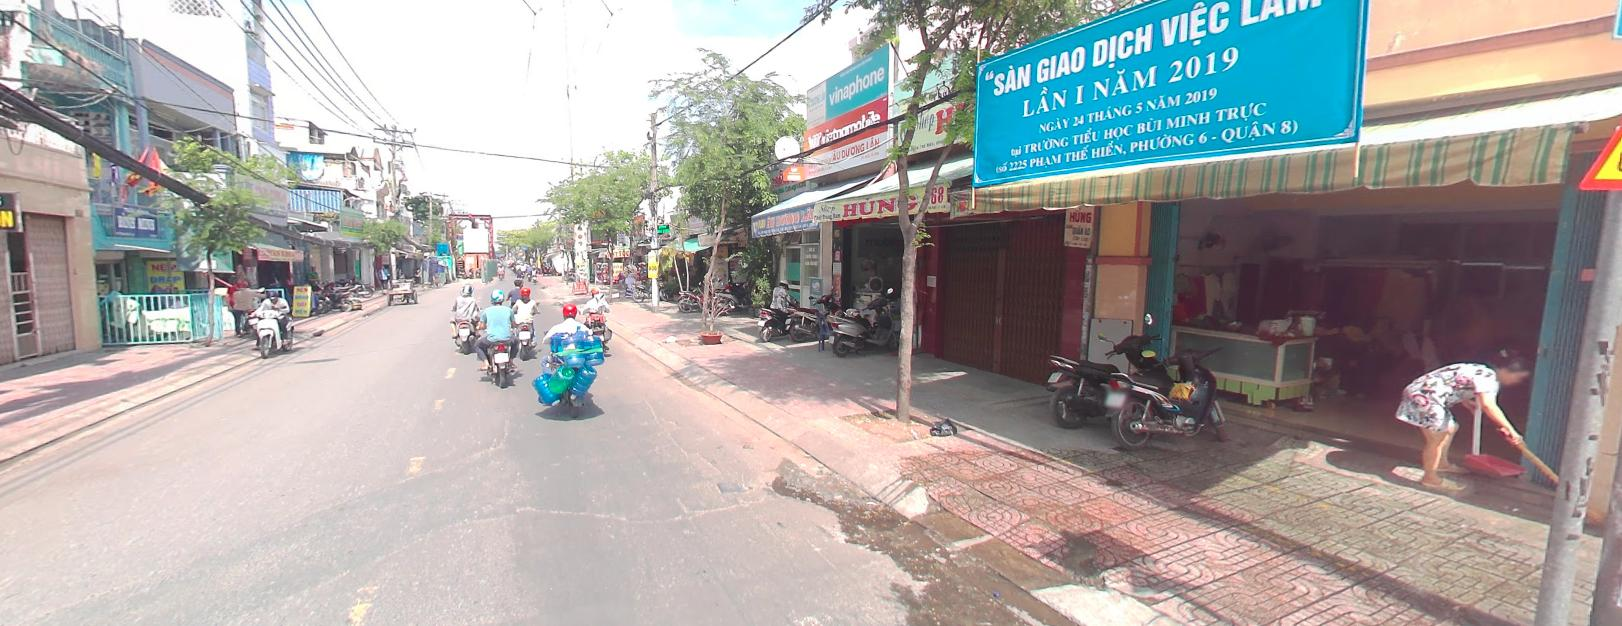Nguy hiem: (1579, 114, 1621, 193)
